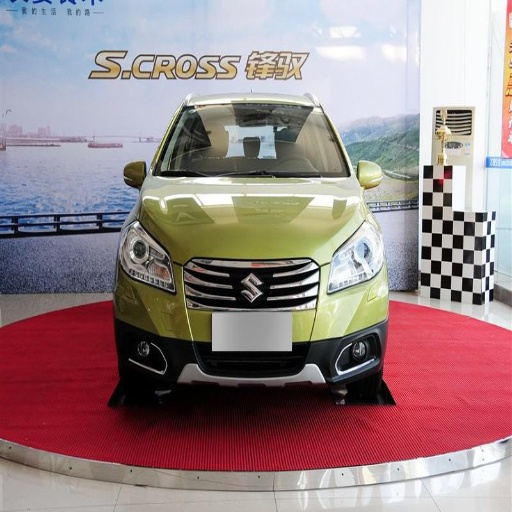front_bumper: (115, 257, 391, 389)
front_right_light: (121, 223, 175, 292)
hood: (141, 176, 365, 263)
